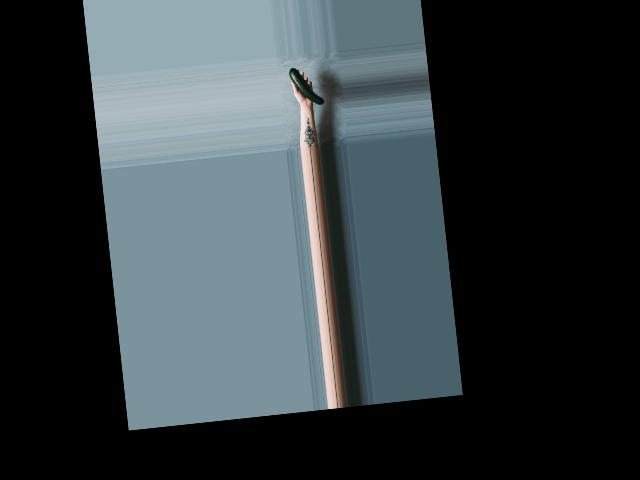cucumber: (289, 64, 324, 107)
